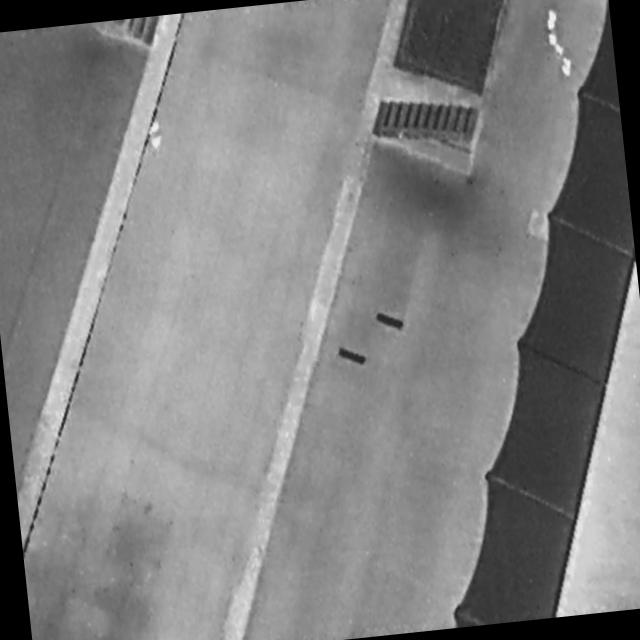person: (149, 119, 166, 153)
